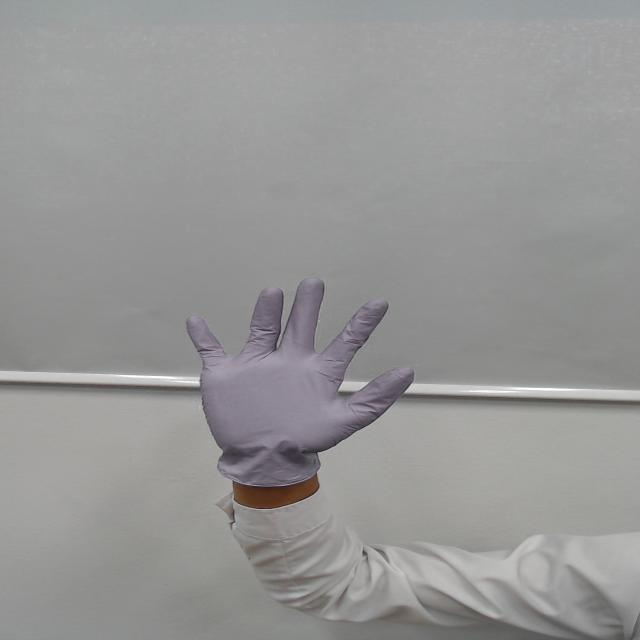glove: (145, 247, 443, 468)
